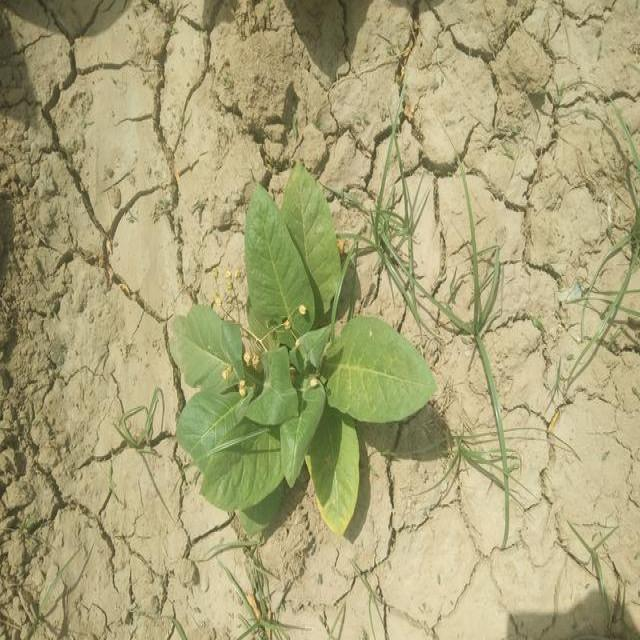crop: (166, 193, 444, 530)
